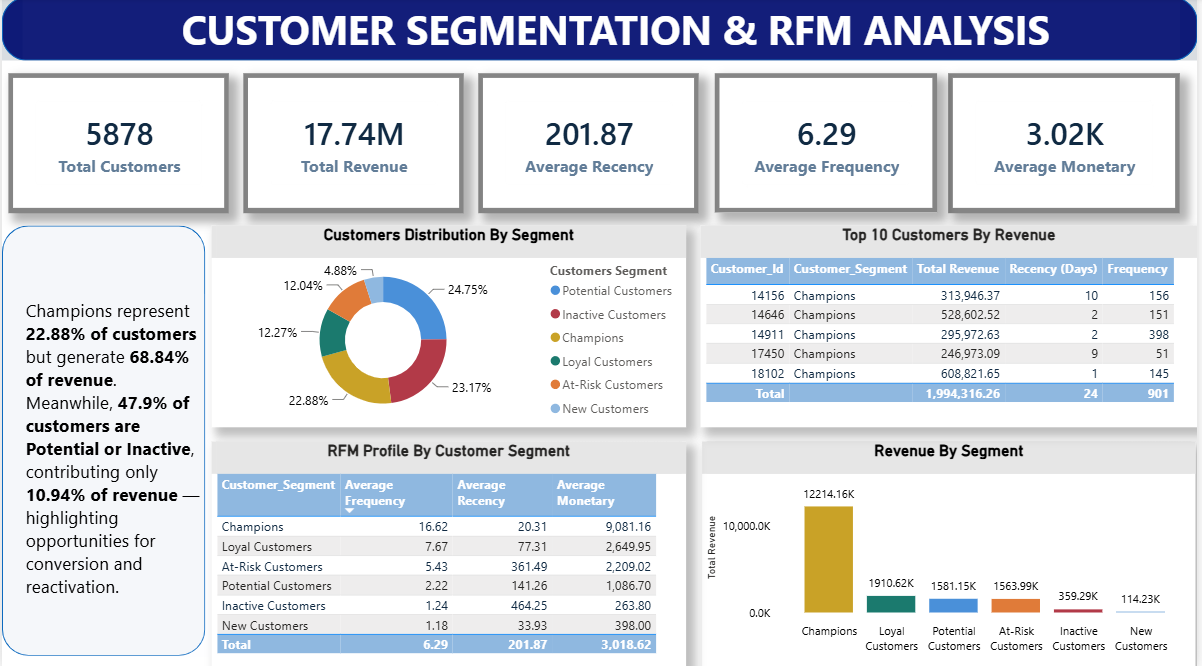

The dashboard page shown, as its layout file describes it:
{"tool":"powerbi","page":{"name":"RFM Analysis","canvas":[1280,720],"ordinal":0},"visuals":[{"type":"shape","box":[0,0,1280.5,68],"z":0},{"type":"textbox","box":[22.1,0,1239.7,68],"z":1000},{"type":"cardVisual","fields":{"Data":["retail_db rfm_segment.Total Customers"]},"box":[6.8,81.6,236.4,149.6],"z":2000},{"type":"cardVisual","fields":{"Data":["retail_db rfm_segment.Total Revenue"]},"box":[258.5,81.6,236.4,149.6],"z":3000},{"type":"cardVisual","fields":{"Data":["retail_db rfm_segment.Average Frequency"]},"box":[763.6,81.6,238.1,149.6],"z":4000},{"type":"cardVisual","fields":{"Data":["retail_db rfm_segment.Average Recency"]},"box":[510.2,81.6,236.4,149.6],"z":5000},{"type":"cardVisual","fields":{"Data":["retail_db rfm_segment.Average Monetary"]},"box":[1013.5,81.6,248.3,149.6],"z":6000},{"type":"donutChart","title":"Customers Distribution By Segment","fields":{"Category":["retail_db rfm_segment.Customer_Segment"],"Y":["retail_db rfm_segment.Total Customers"]},"box":[224.5,244.9,508.5,216],"z":7000},{"type":"columnChart","title":"Revenue By Segment","fields":{"Category":["retail_db rfm_segment.Customer_Segment"],"Y":["retail_db rfm_segment.Total Revenue"]},"box":[750,476.1,528.8,244.4],"z":8000},{"type":"tableEx","title":"RFM Profile By Customer Segment","fields":{"Values":["retail_db rfm_segment.Customer_Segment","retail_db rfm_segment.Average Frequency","retail_db rfm_segment.Average Recency","retail_db rfm_segment.Average Monetary"]},"box":[224.5,476.2,508.5,243.2],"z":9000},{"type":"tableEx","title":"Top 10 Customers By Revenue","fields":{"Values":["retail_db rfm_segment.Customer_Id","retail_db rfm_segment.Customer_Segment","retail_db rfm_segment.Total Revenue","Sum(retail_db rfm_segment.Recency)","Sum(retail_db rfm_segment.Frequency)"]},"box":[748.2,244.9,532.3,216],"z":10000},{"type":"shape","box":[0,244.9,217.7,460.9],"z":11000},{"type":"textbox","box":[20.4,318,204.1,389.4],"z":12000}]}

Visuals, with their boxes in screenshot pixels (x1, y1, x2, y2), scaled from the page's 1280x720 canvas onto the 1202x666 screenshot:
shape: <bbox>0, 0, 1201, 63</bbox>
textbox: <bbox>21, 0, 1185, 63</bbox>
cardVisual - retail_db rfm_segment.Total Customers: <bbox>6, 75, 228, 214</bbox>
cardVisual - retail_db rfm_segment.Total Revenue: <bbox>243, 75, 465, 214</bbox>
cardVisual - retail_db rfm_segment.Average Frequency: <bbox>717, 75, 941, 214</bbox>
cardVisual - retail_db rfm_segment.Average Recency: <bbox>479, 75, 701, 214</bbox>
cardVisual - retail_db rfm_segment.Average Monetary: <bbox>952, 75, 1185, 214</bbox>
"Customers Distribution By Segment" donutChart: <bbox>211, 227, 688, 426</bbox>
"Revenue By Segment" columnChart: <bbox>704, 440, 1201, 665</bbox>
"RFM Profile By Customer Segment" tableEx: <bbox>211, 440, 688, 665</bbox>
"Top 10 Customers By Revenue" tableEx: <bbox>703, 227, 1201, 426</bbox>
shape: <bbox>0, 227, 204, 653</bbox>
textbox: <bbox>19, 294, 211, 654</bbox>
